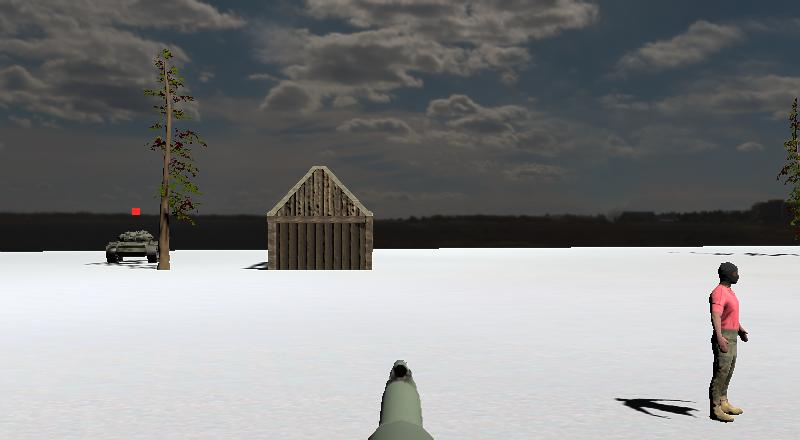House: (251, 149, 391, 299)
Human: (685, 245, 765, 436)
Tank: (98, 224, 170, 274)
